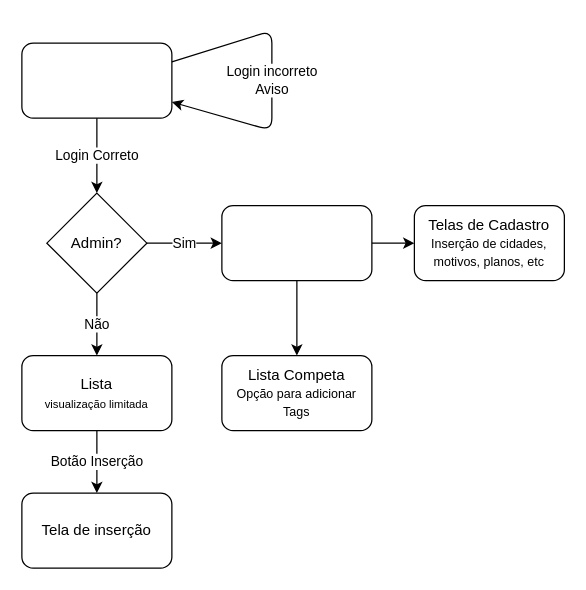
Some shapes in this 586 by 590 pixel diagram are drawn without their labels. The centre of each missing label's shape, as x and y in pixels:
Dashboard Admin Informações / graficos: the point at 296,242
Login: the point at 96,80
